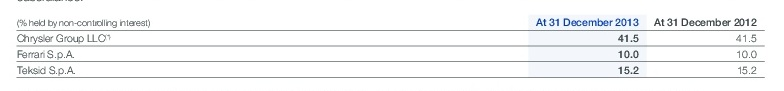table: (0, 0, 784, 91)
